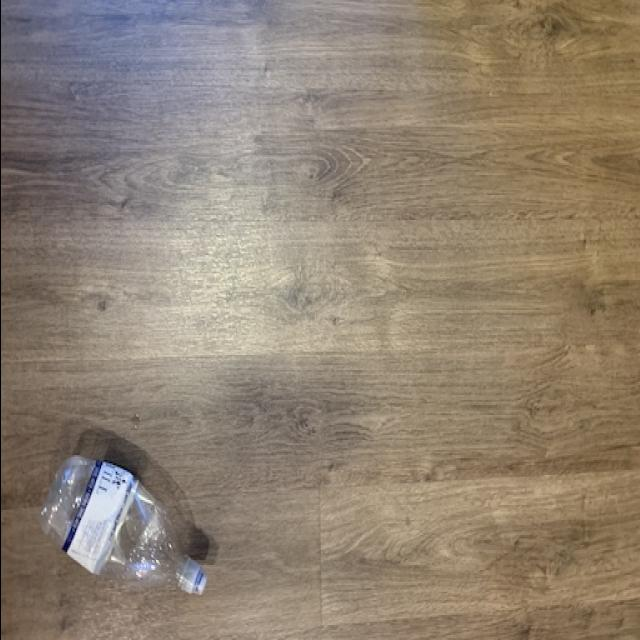PET: (32, 452, 212, 596)
